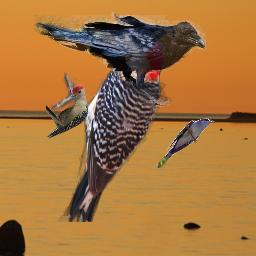Crow: (34, 15, 206, 107)
Cuckoo: (157, 118, 215, 168)
Woodpecker: (51, 11, 164, 222), (46, 85, 88, 140)
